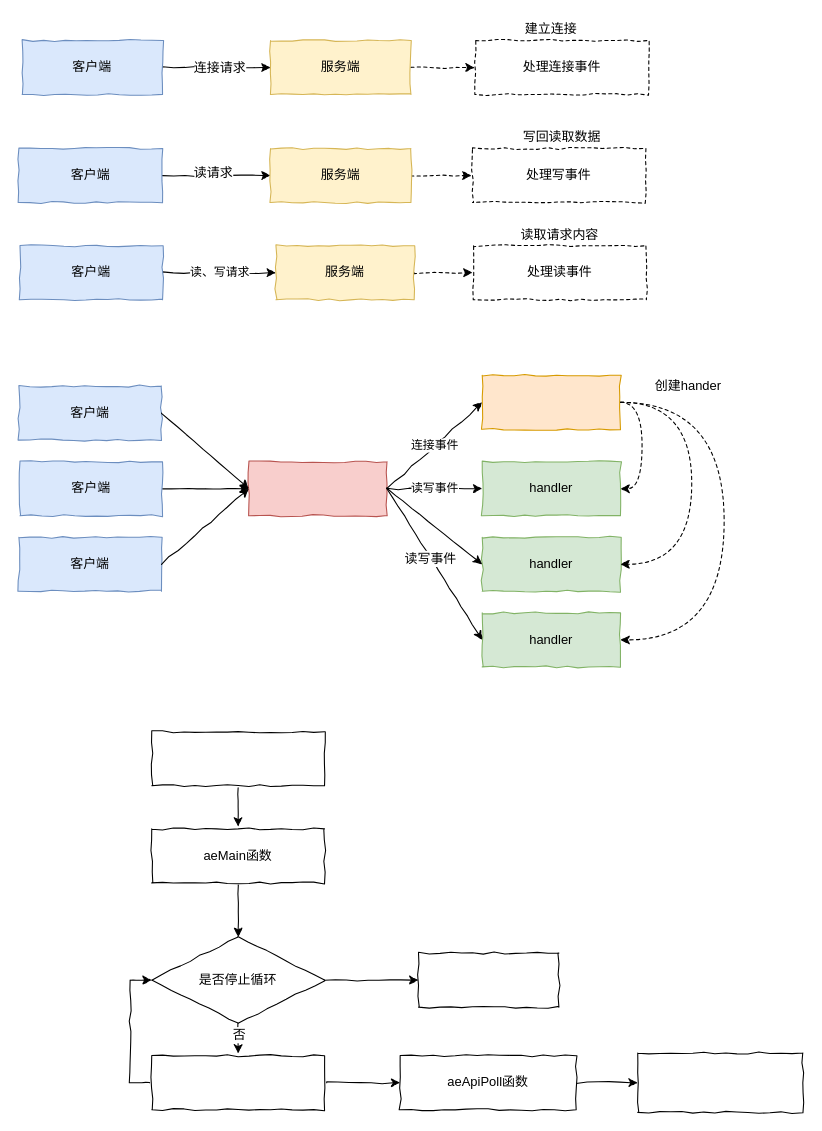
This 822x1131 diagram has some shape labels left out. Here are the shapes that lost their labels. From the top down, the centre of each, then its label:
At pixel 550 401: "acceptor".
At pixel 317 488: "reactor".
At pixel 238 758: "main函数初始化服务器程序".
At pixel 488 979: "redisServer停止".
At pixel 238 1082: "aeProcessEvent处理".
At pixel 720 1082: "linux:epoll_wait mac:kevent".
